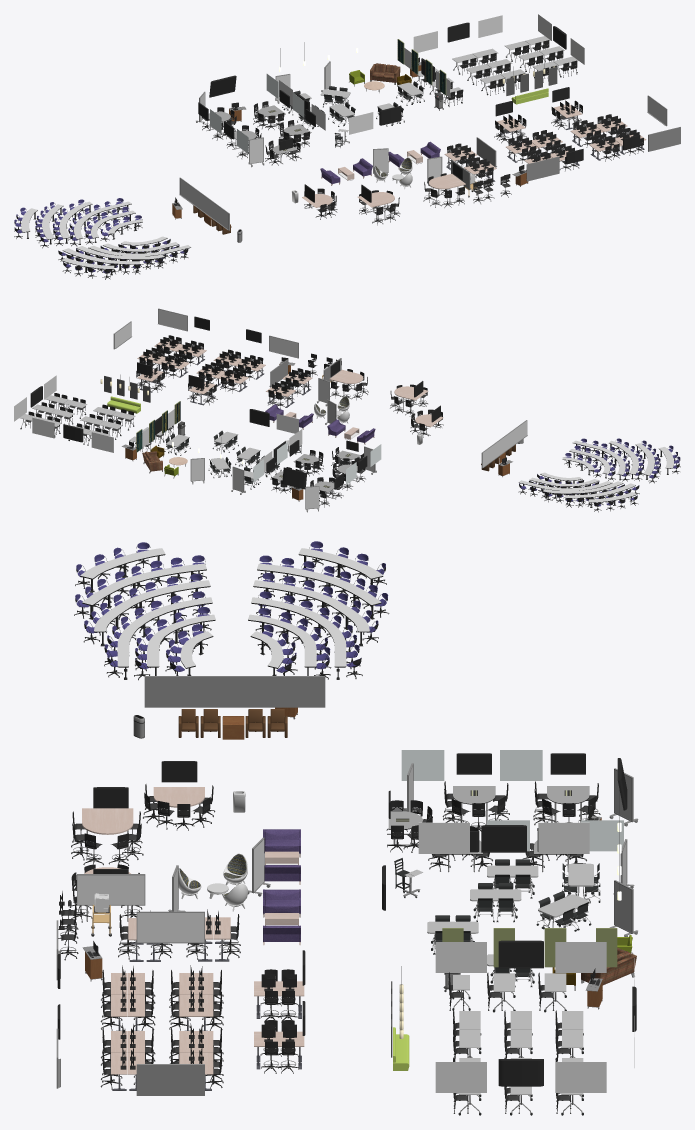
The model's file is COBA 3rd Floor Furniture.fbx.
3 renders of one model, top to bottom at view 1: azimuth 30°, elevation 25°; view 2: azimuth 150°, elevation 25°; view 3: azimuth 270°, elevation 25°, orthographic. The views are drawn at different scales.
Parts seen in each view (by area): view 1: o_301_tables, o_301_whiteboard, o_317_whiteboard.002, o_317_whiteboard.001, o_316_couch, o_315_curve_table.000, o_315_curve_table.002, o_314_large_tv, o_318_whiteboard.001, o_316_whiteboard.000, o_318_whiteboard.000; view 2: o_301_tables, o_301_whiteboard, o_317_whiteboard.002, o_317_whiteboard.001, o_314_large_tv, o_315_curve_table.000, o_318_whiteboard.000, o_318_whiteboard.001, o_316_whiteboard.000, o_316_rolling_whiteboard.000, o_314_rolling_whiteboard.001, o_315_curve_table.002 (+2 smaller); view 3: o_301_tables, o_301_whiteboard, o_317_whiteboard.003, o_317_whiteboard.000, o_315_whiteboard, o_316_whiteboard.001, o_316_whiteboard.002, o_318_whiteboard.005, o_318_whiteboard.002, o_318_whiteboard.003, o_318_whiteboard.004, o_314_whiteboard.002 (+11 smaller).
Part boxes in pixels (x1,y1,x2,y2): o_301_tables: (21, 201, 190, 275); o_301_whiteboard: (179, 177, 229, 230); o_317_whiteboard.002: (526, 156, 559, 181); o_317_whiteboard.001: (648, 127, 680, 151); o_316_couch: (370, 63, 400, 84); o_315_curve_table.000: (429, 174, 465, 203); o_315_curve_table.002: (357, 192, 394, 222); o_314_large_tv: (209, 75, 236, 97); o_318_whiteboard.001: (478, 15, 502, 37); o_316_whiteboard.000: (349, 112, 373, 134); o_318_whiteboard.000: (413, 31, 437, 52); o_301_tables: (518, 440, 673, 507); o_301_whiteboard: (481, 420, 527, 468); o_317_whiteboard.002: (269, 335, 298, 358); o_317_whiteboard.001: (158, 308, 187, 331); o_314_large_tv: (282, 467, 307, 489); o_315_curve_table.000: (329, 369, 363, 396); o_318_whiteboard.000: (91, 432, 113, 452); o_318_whiteboard.001: (32, 417, 54, 438); o_316_whiteboard.000: (276, 414, 298, 433); o_316_rolling_whiteboard.000: (190, 458, 204, 484); o_314_rolling_whiteboard.001: (305, 486, 319, 512); o_315_curve_table.002: (394, 386, 428, 413); o_301_tables: (80, 548, 383, 679); o_301_whiteboard: (144, 676, 325, 707); o_317_whiteboard.003: (136, 911, 204, 943); o_317_whiteboard.000: (136, 1064, 204, 1095); o_315_whiteboard: (77, 874, 145, 905); o_316_whiteboard.001: (538, 822, 589, 853); o_316_whiteboard.002: (418, 822, 469, 853); o_318_whiteboard.005: (435, 942, 486, 972); o_318_whiteboard.002: (555, 1062, 606, 1092); o_318_whiteboard.003: (435, 1062, 486, 1092); o_318_whiteboard.004: (555, 942, 606, 972); o_314_whiteboard.002: (500, 750, 542, 780).
Size of the model in its own units: 4542 by 403 by 2073.
